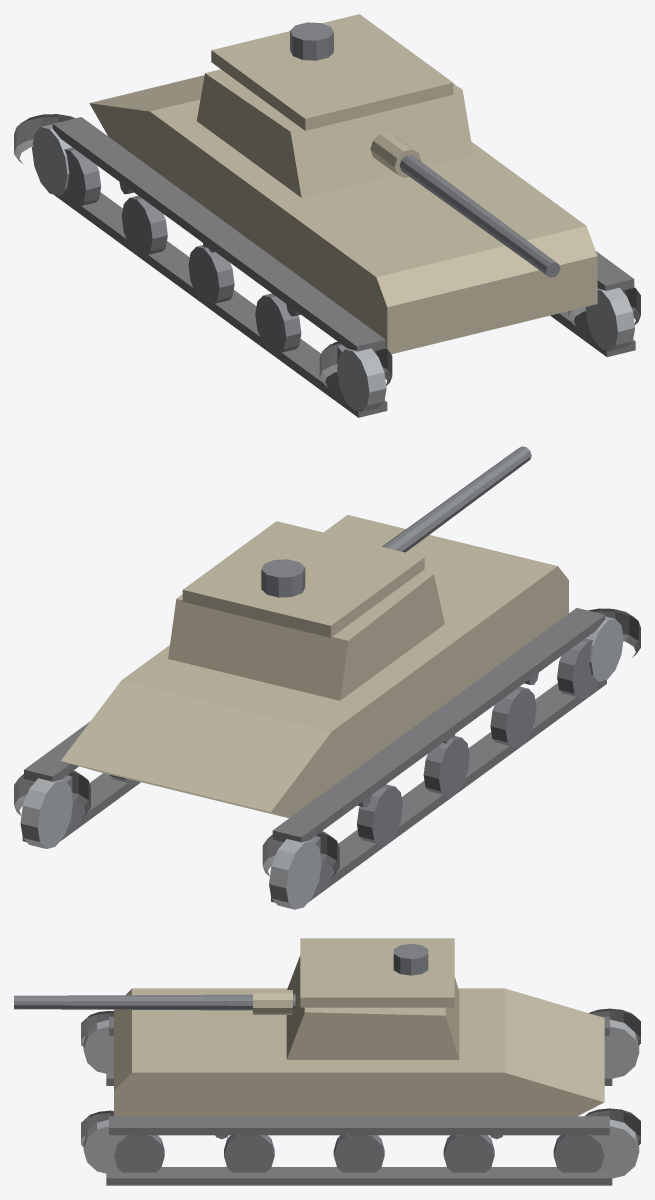
Rendered from 2-armoured-column-and-field-camp-light-tank-588bca75.glb.
The picture shows the model from 3 angles, top to bottom: view 1: azimuth 30°, elevation 25°; view 2: azimuth 150°, elevation 25°; view 3: azimuth 270°, elevation 25°; orthographic projection. The views are drawn at different scales.
Visible parts, largest first — view 1: light-tank, turret (×2); view 2: light-tank, turret (×2); view 3: light-tank, turret (×2).
Boxes of the visible parts, x1,y1,x2,y2 form: light-tank: [14, 75, 640, 417]; turret (×2): [197, 14, 560, 277]; light-tank: [14, 515, 640, 909]; turret (×2): [168, 446, 531, 700]; light-tank: [81, 988, 640, 1185]; turret (×2): [14, 938, 459, 1059].
Size of the model in its own units: 3.3 by 2.17 by 6.9.
